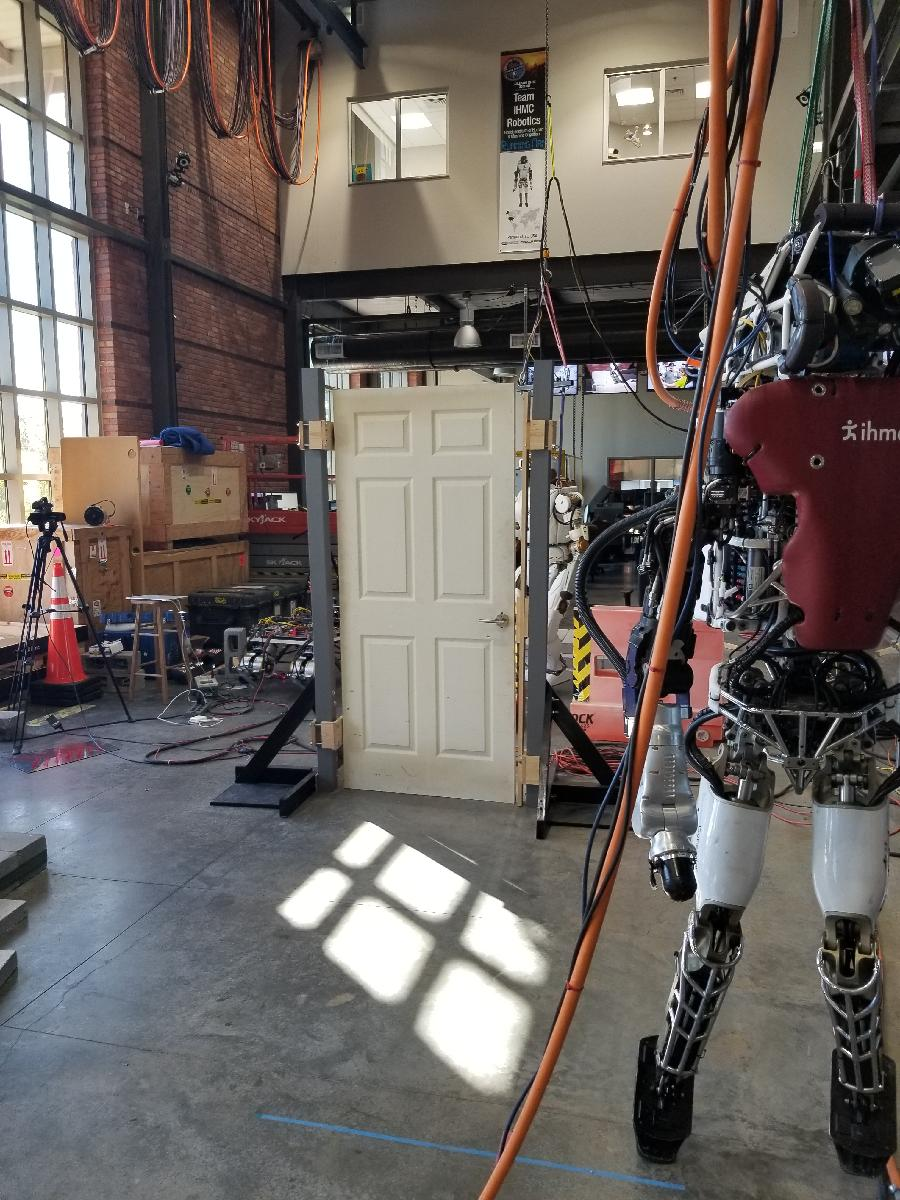door: (332, 381, 525, 809)
doorHandle: (481, 606, 515, 632)
